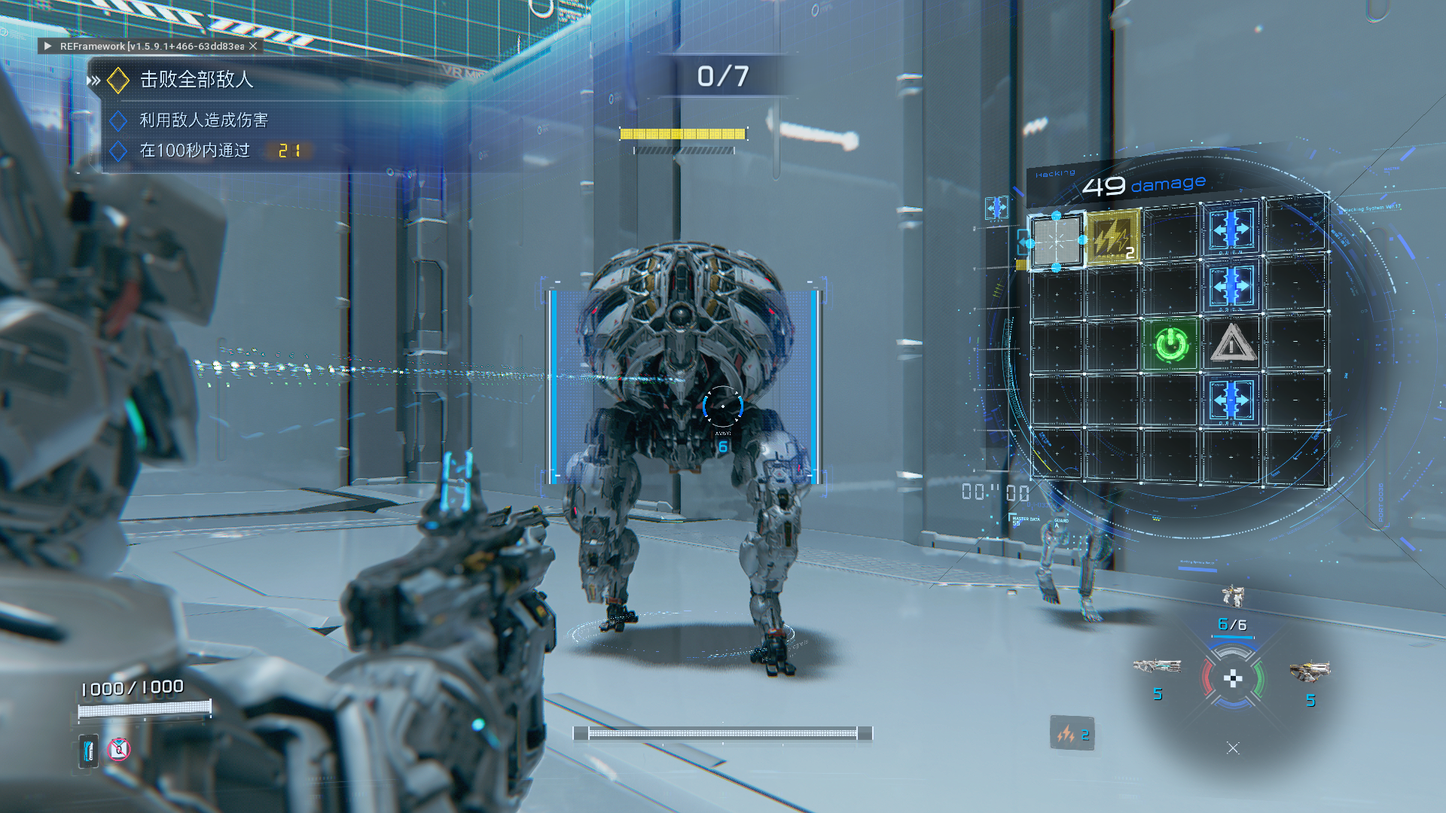puzzle_panel: (1026, 188, 1331, 489)
